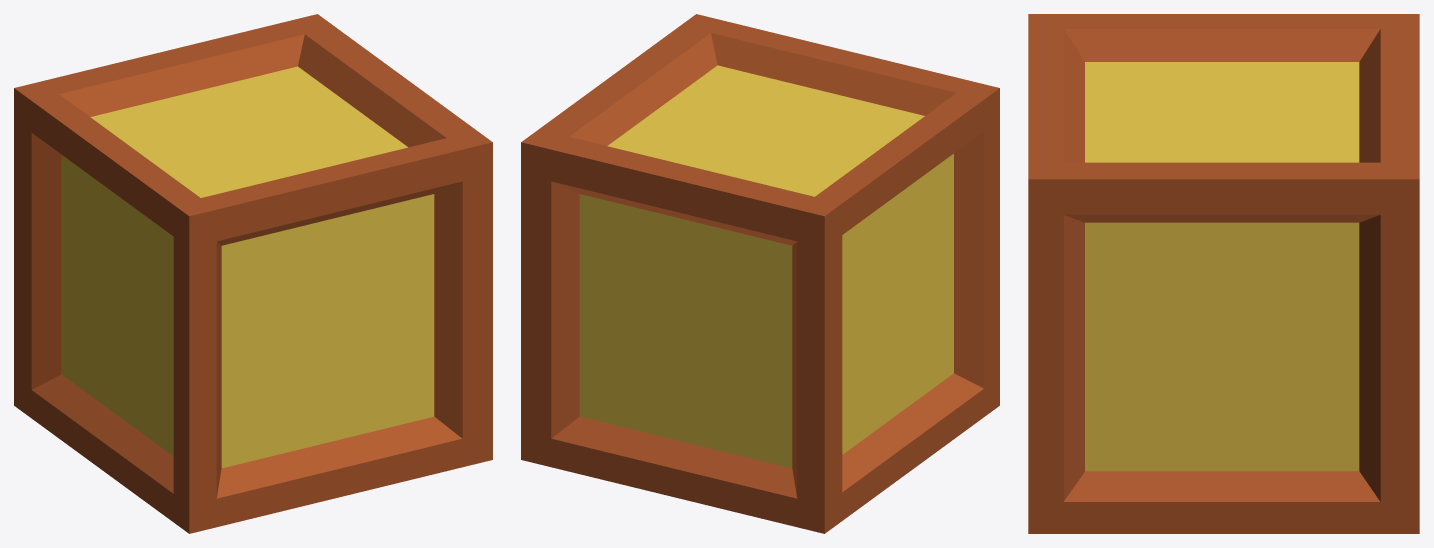
File: corecubecentered.fbx
The picture shows the model from 3 angles, left to right: view 1: azimuth 30°, elevation 25°; view 2: azimuth 150°, elevation 25°; view 3: azimuth 270°, elevation 25°; orthographic projection. The views are drawn at different scales.
Parts seen in each view (by area): view 1: core; view 2: core; view 3: core.
Boxes of the visible parts, x1,y1,x2,y2 form: core: (14, 14, 492, 533); core: (521, 14, 999, 533); core: (1028, 14, 1419, 533).
Size of the model in its own units: 1.16 by 1.16 by 1.16.
